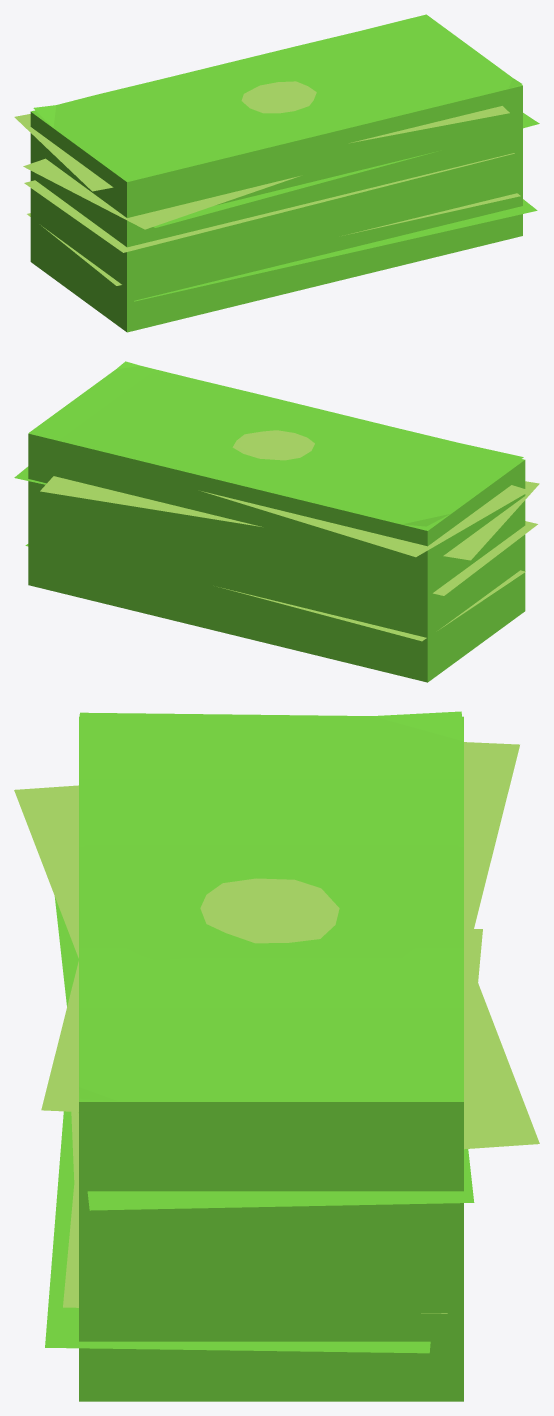
The model's file is money.fbx.
3 renders of one model, top to bottom at view 1: azimuth 30°, elevation 25°; view 2: azimuth 150°, elevation 25°; view 3: azimuth 270°, elevation 25°, orthographic. The views are drawn at different scales.
Visible parts, largest first — view 1: Stack fat 20s.001; view 2: Stack fat 20s.001; view 3: Stack fat 20s.001.
Part boxes in pixels (bbox=[...]): Stack fat 20s.001: bbox=[14, 14, 539, 332]; Stack fat 20s.001: bbox=[14, 361, 539, 682]; Stack fat 20s.001: bbox=[14, 711, 539, 1401].
Size of the model in its own units: 263 by 87.79 by 136.
